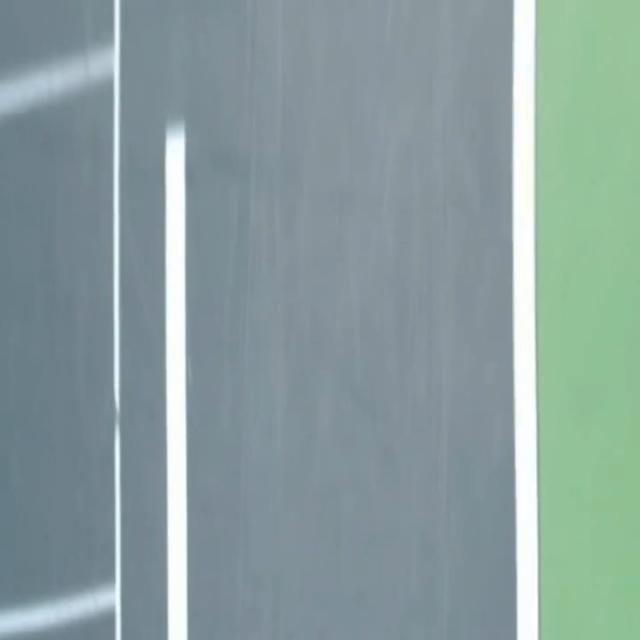center: (165, 123, 187, 639)
right: (513, 0, 538, 639)
